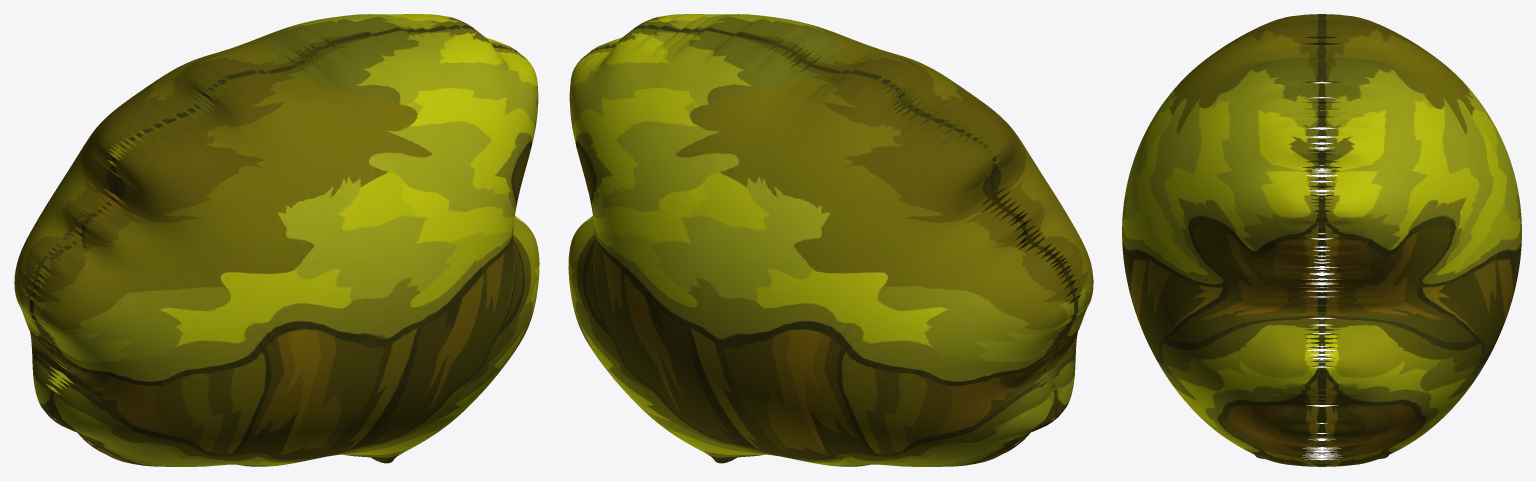
Rendered from olive_terrace.glb.
3 renders of one model, left to right at view 1: azimuth 30°, elevation 25°; view 2: azimuth 150°, elevation 25°; view 3: azimuth 270°, elevation 25°, orthographic. The views are drawn at different scales.
Parts seen in each view (by area): view 1: olive_terrace; view 2: olive_terrace; view 3: olive_terrace.
Part boxes in pixels (x1,y1,x2,y2): olive_terrace: [14, 14, 539, 466]; olive_terrace: [568, 14, 1093, 466]; olive_terrace: [1122, 14, 1521, 466].
Size of the model in its own units: 0.989 by 0.7671 by 0.7268.
1 material, 1 textured.
